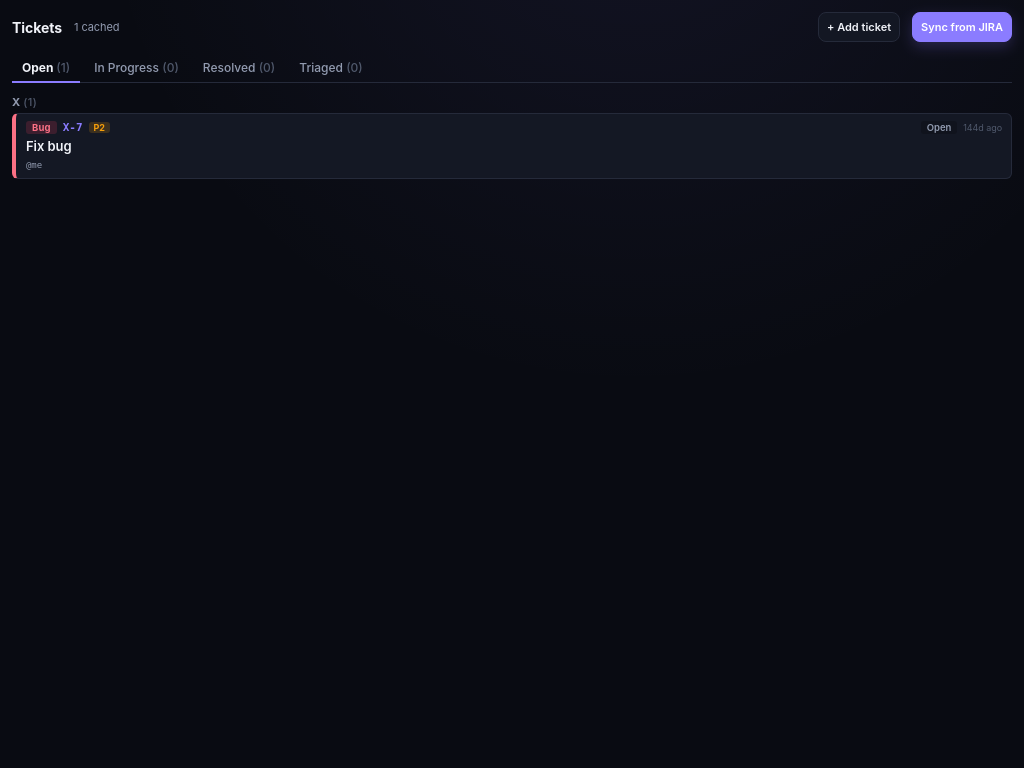
it: TicketsPage › opens detail panel when a ticket is clicked
This screenshot has width=1024, height=768.
Step 1. Click the element with test id "ticket-row-X-7" → (512, 146), box [12,113,1012,178]
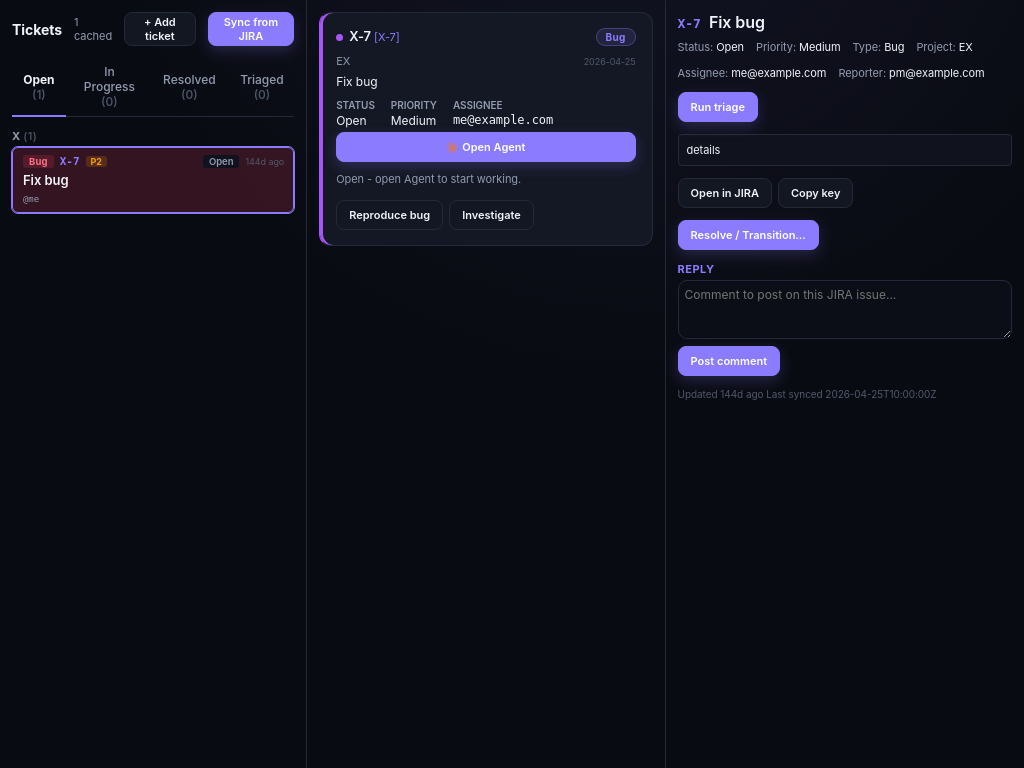
Expected: the element with test id "tickets-detail-pane" is shown, [678,12,1012,400]
Expected: the button with test id "ticket-open-jira" is shown, [678,178,772,208]
Expected: the button with test id "ticket-copy-key" is shown, [778,178,853,208]
